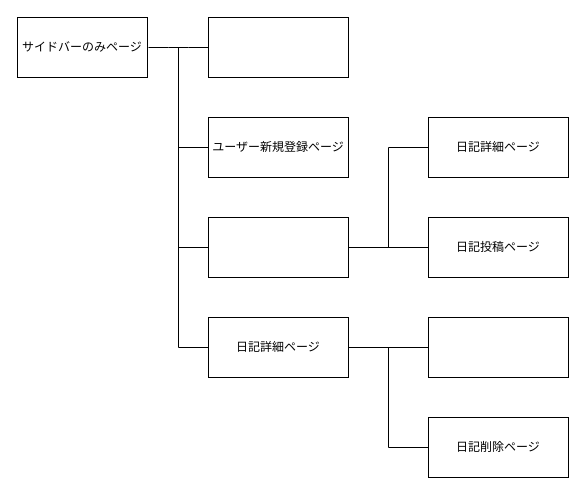
The diagram is 586 pixels wide and 495 high, and some of its shapes have lost their labels. Here are the shapes that lost their labels. From the top down, the centre of each, then its label:
(x=278, y=47): ユーザーログインページ
(x=278, y=247): ユーザーマイページ
(x=498, y=347): 日記編集ページ
